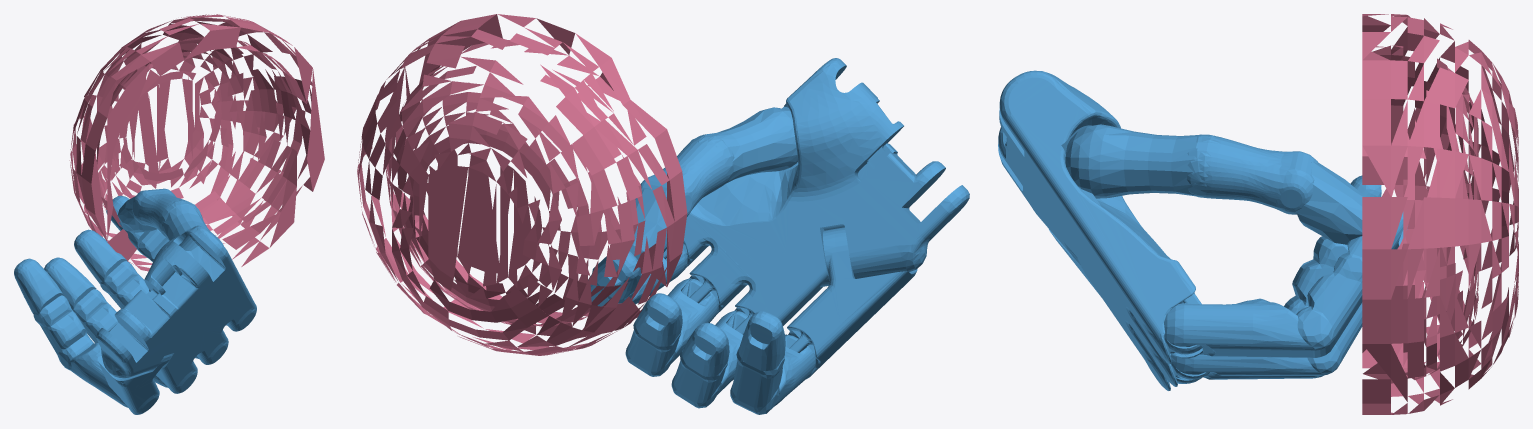
The picture shows the model from 3 angles, left to right: view 1: azimuth 30°, elevation 25°; view 2: azimuth 150°, elevation 25°; view 3: azimuth 270°, elevation 25°; orthographic projection. The views are drawn at different scales.
Visible parts, largest first — view 1: 7; view 2: 7; view 3: 7.
Boxes of the visible parts, bbox=[...] form: 7: bbox=[14, 14, 324, 414]; 7: bbox=[357, 14, 969, 414]; 7: bbox=[998, 14, 1518, 414].
Size of the model in its own units: 0.2011 by 0.1689 by 0.1806.
